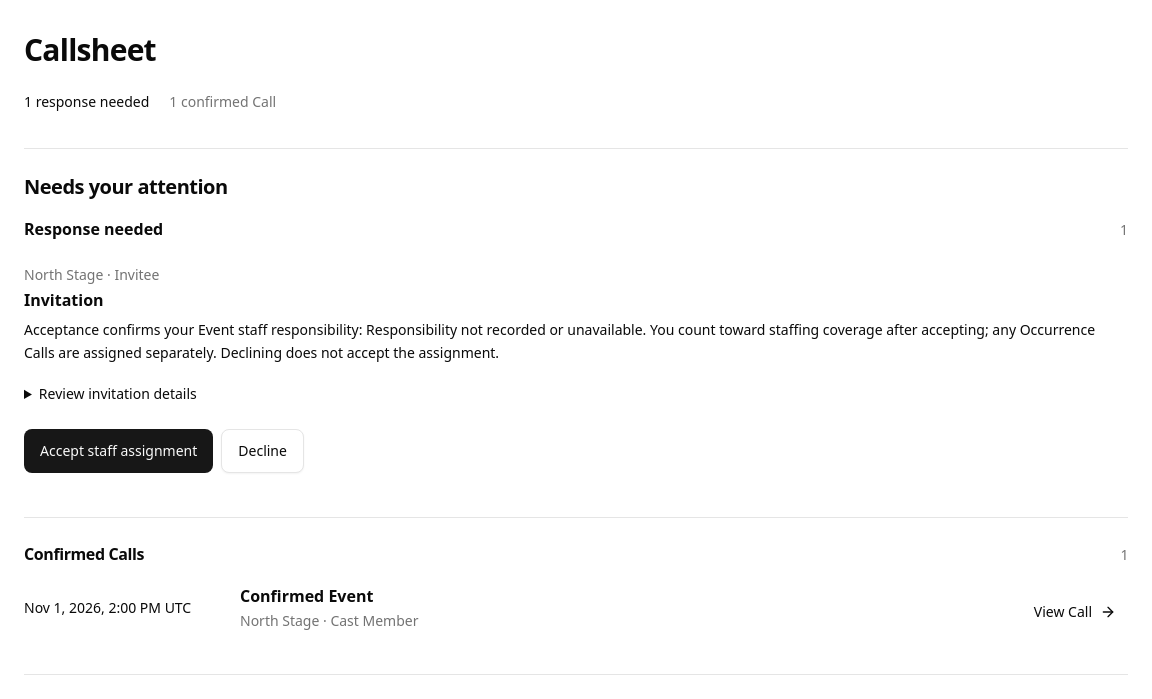
Test: keeps staff_invitation failures actionable, blocks duplicate responses, and clears only the resolved task
Click the button "Accept staff assignment" at point(119, 450), box [24,428,213,472]
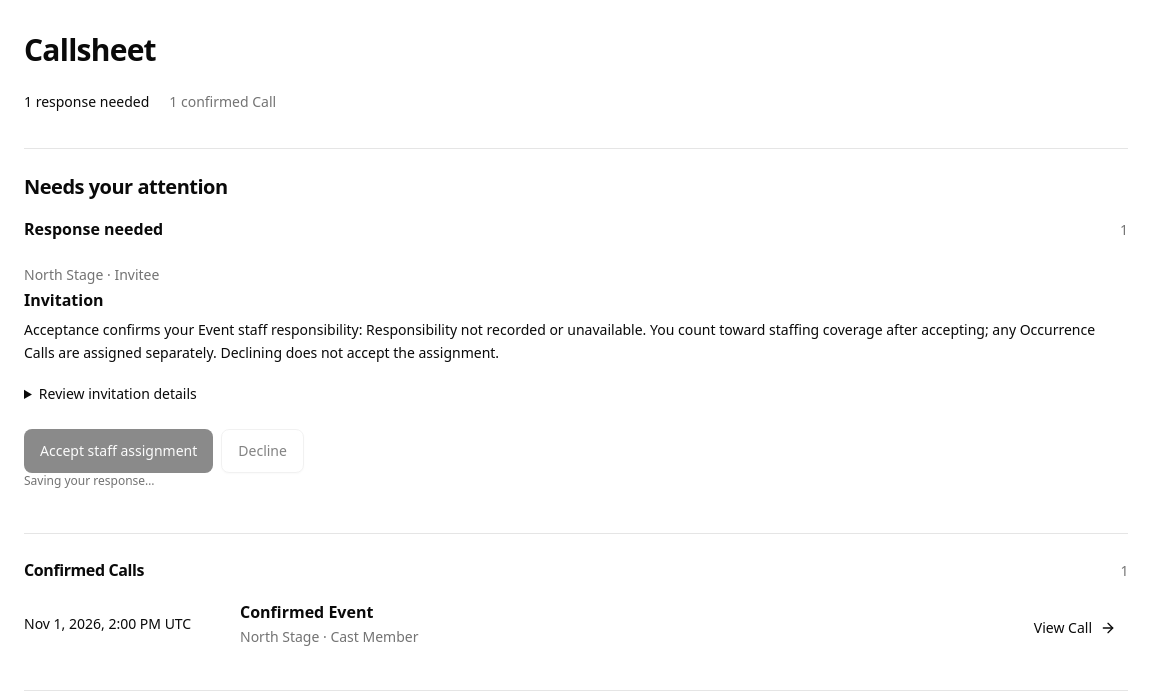
Expected: the button "Accept staff assignment" is disabled
Expected: the button "Decline" is disabled, [221,428,304,472]
Expected: the message shows "Saving your response", [24,472,155,488]
Click the button "Accept staff assignment" at point(119, 450), box [24,428,213,472]
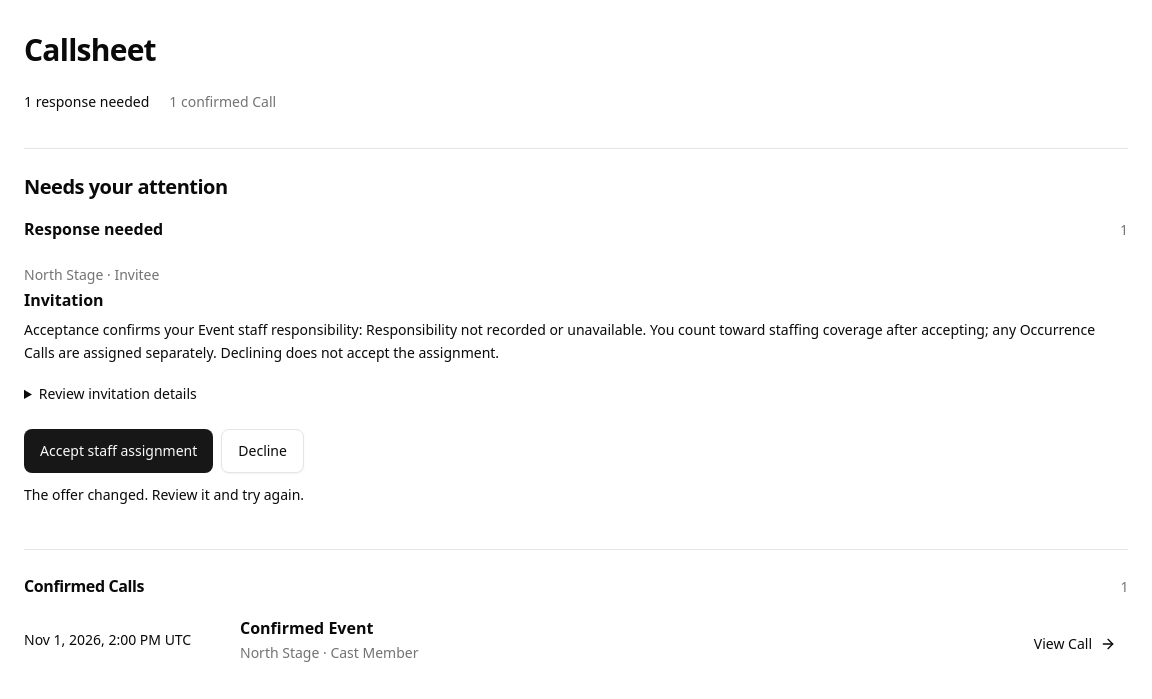
Expected: the message shows "The offer changed", [24,484,304,504]
Expected: the button "Accept staff assignment" is enabled, [24,428,213,472]
Click the button "Decline" at point(263, 450), box [221,428,304,472]
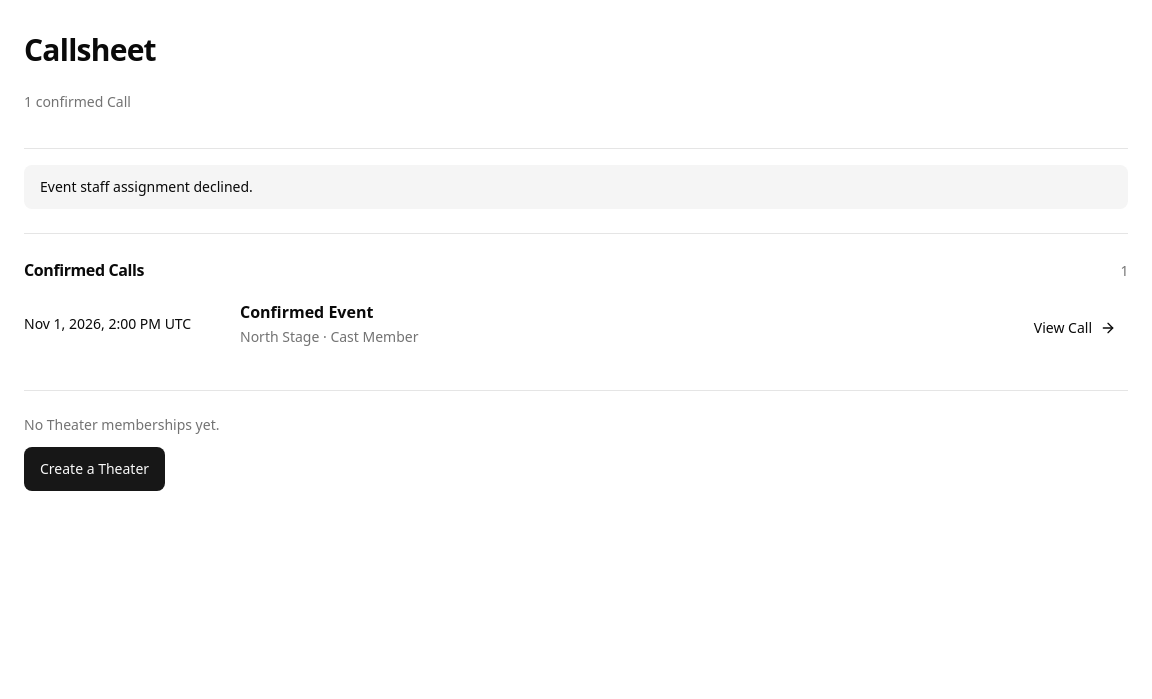
Expected: the heading "Confirmed Event" is shown, [240,301,373,323]
Expected: the button "Accept staff assignment" is gone
